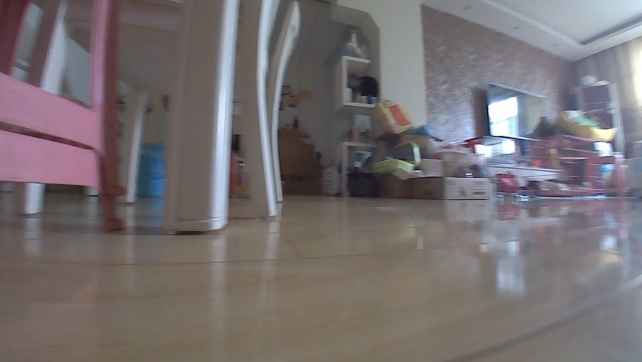dining_table1: (0, 0, 305, 237)
